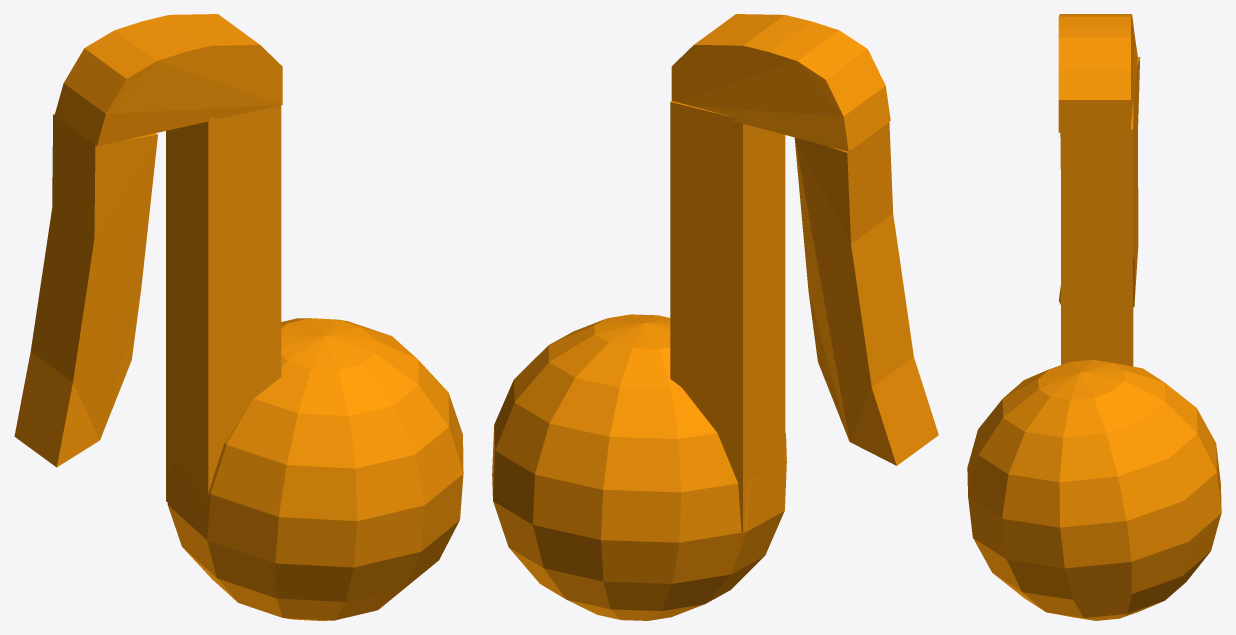
File: orange_note_fbx.fbx
3 views of the same model, side by side, from view 1: azimuth 30°, elevation 25°; view 2: azimuth 150°, elevation 25°; view 3: azimuth 270°, elevation 25° (orthographic). The views are drawn at different scales.
Visible parts, largest first — view 1: mesh_2141155923, mesh_1592007617, mesh_1079009209, mesh_1608023967; view 2: mesh_2141155923, mesh_1592007617, mesh_1079009209, mesh_1608023967; view 3: mesh_2141155923, mesh_1592007617, mesh_1608023967, mesh_1079009209.
Boxes of the visible parts, <box> form: mesh_2141155923: <box>167,318,463,620</box>; mesh_1592007617: <box>166,105,281,531</box>; mesh_1079009209: <box>14,114,157,467</box>; mesh_1608023967: <box>54,14,282,146</box>; mesh_2141155923: <box>492,314,786,620</box>; mesh_1592007617: <box>670,101,785,531</box>; mesh_1079009209: <box>794,122,938,465</box>; mesh_1608023967: <box>671,14,890,151</box>; mesh_2141155923: <box>967,359,1221,620</box>; mesh_1592007617: <box>1061,101,1133,366</box>; mesh_1608023967: <box>1058,14,1137,132</box>; mesh_1079009209: <box>1058,57,1140,307</box>.
Size of the model in its own units: 345 by 492 by 218.
